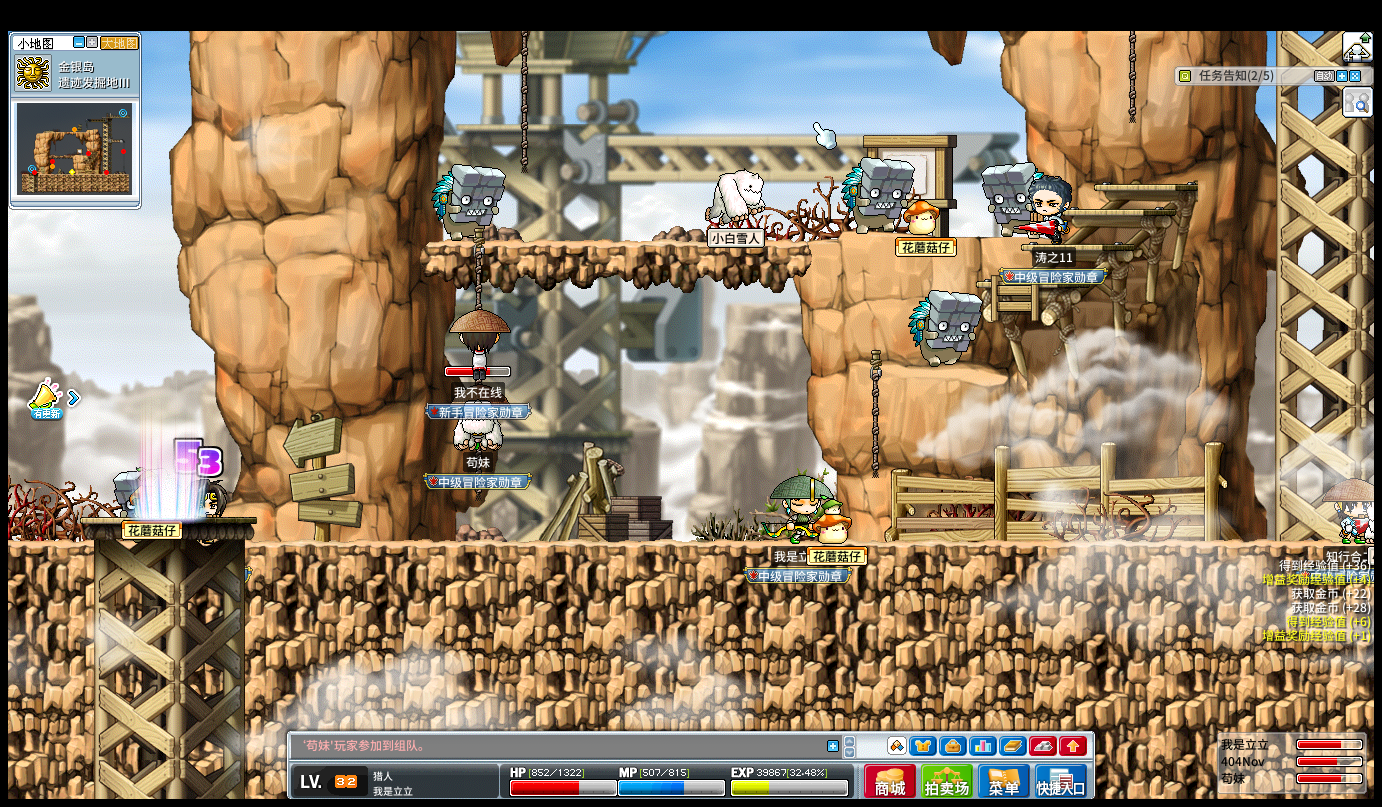floor: (245, 538, 1373, 549), (422, 239, 810, 249), (906, 365, 1010, 388), (80, 515, 257, 523), (8, 539, 94, 550), (935, 235, 1050, 242), (1063, 209, 1177, 216), (1021, 244, 1135, 251), (976, 282, 1098, 288), (1094, 184, 1198, 191)
monster: (907, 290, 982, 367), (432, 164, 506, 241), (841, 157, 915, 234), (982, 163, 1032, 237), (112, 469, 138, 517)
rope: (871, 350, 880, 479), (520, 31, 528, 173), (473, 228, 483, 310), (1129, 31, 1136, 123)
